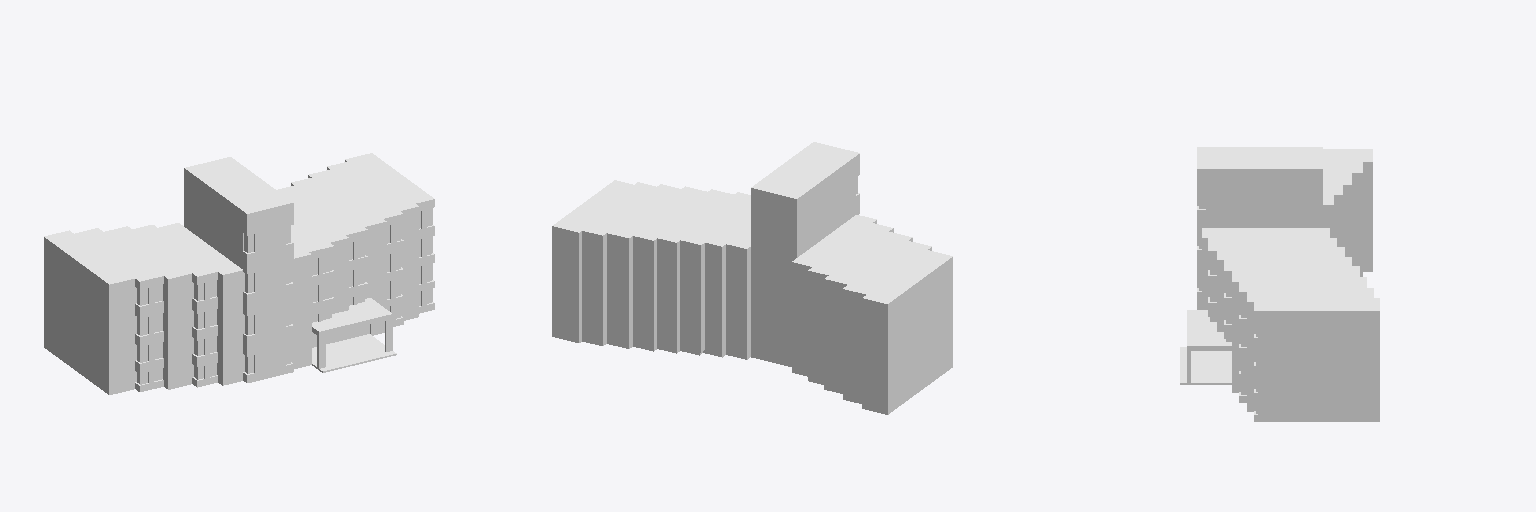
Rendered from 교양관.obj.
3 renders of one model, left to right at view 1: azimuth 30°, elevation 25°; view 2: azimuth 150°, elevation 25°; view 3: azimuth 270°, elevation 25°, orthographic.
Visible parts, largest first — view 1: object 1; view 2: object 1; view 3: object 1.
Part boxes in pixels (bbox=[...]): object 1: bbox=[44, 153, 434, 394]; object 1: bbox=[552, 142, 952, 414]; object 1: bbox=[1180, 147, 1379, 421].
Size of the model in its own units: 20.7 by 10.1 by 10.8.